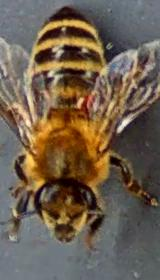varroa_mite: (66, 84, 105, 118)
